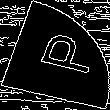P_W: (19, 30, 91, 80)
